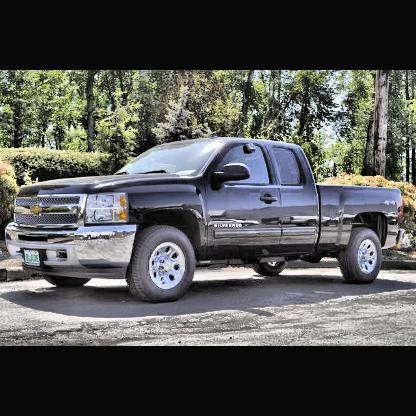Chevrolet Silverado 1500 Extended Cab 2012: (7, 137, 406, 303)
